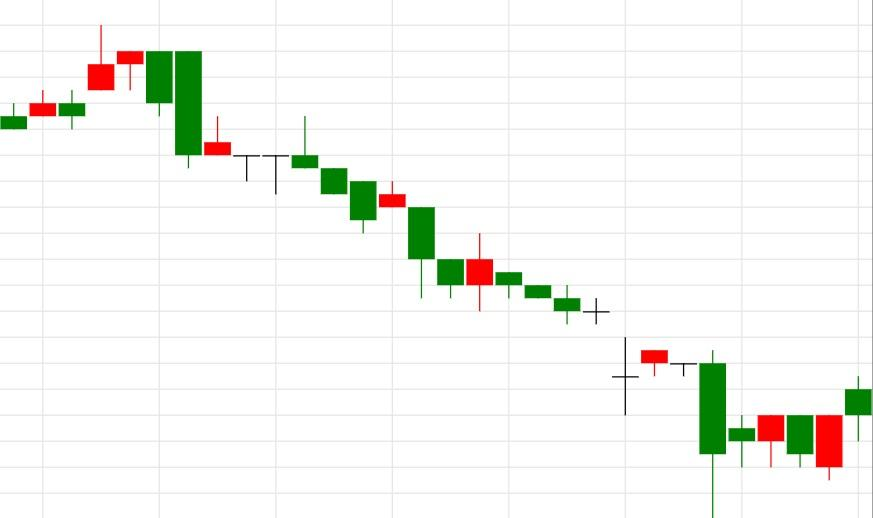bearish_engulfing_fall: (0, 25, 174, 130)
bullish_engulfing_rise: (87, 25, 844, 518)
